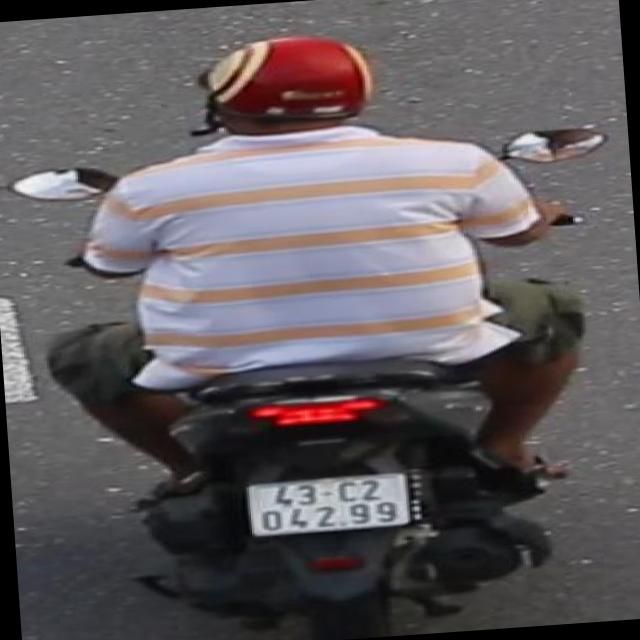LP: (240, 464, 420, 540)
helmet: (198, 25, 382, 144)
